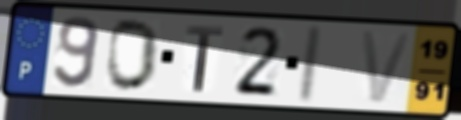2: (229, 25, 287, 100)
9: (51, 14, 101, 90)
I: (293, 23, 326, 106)
O: (104, 17, 162, 94)
T: (184, 23, 225, 95)
V: (358, 28, 416, 106)
